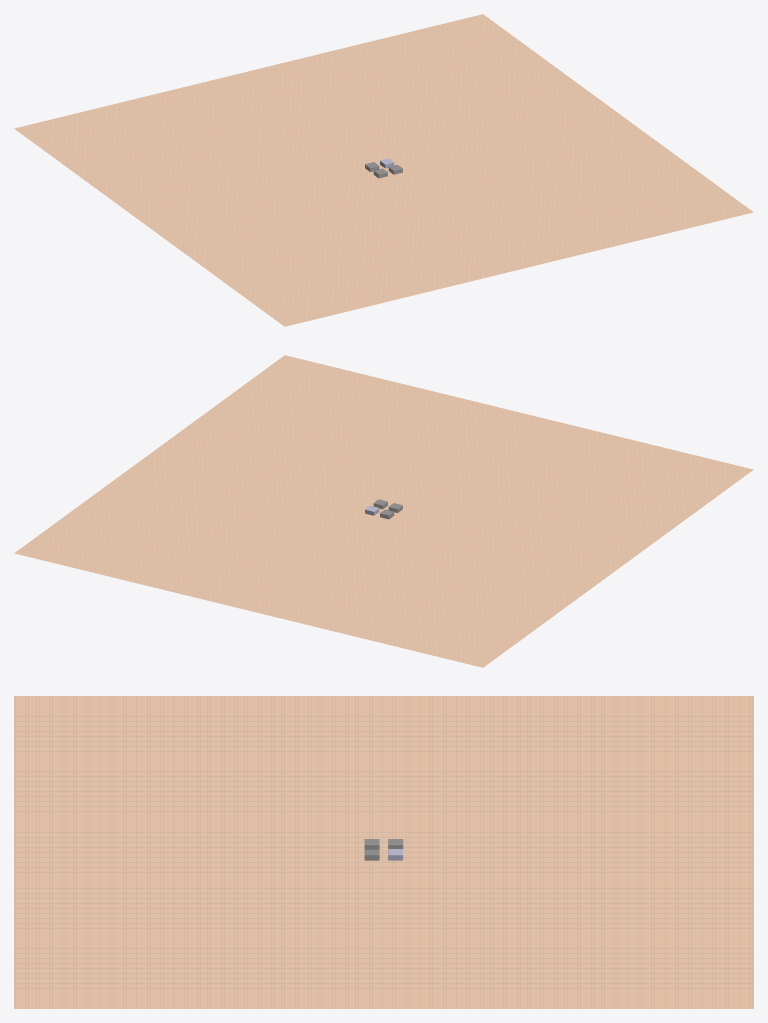
The picture shows the model from 3 angles, top to bottom: view 1: azimuth 30°, elevation 25°; view 2: azimuth 150°, elevation 25°; view 3: azimuth 270°, elevation 25°; orthographic projection. The views are drawn at different scales.
Parts seen in each view (by area): view 1: Floor; view 2: Floor; view 3: Floor, object 40, object 48, object 56, object 64, object 72, object 80, object 88, object 96, object 129, object 137, object 145 (+33 smaller).
Part boxes in pixels (x1,y1,x2,y2): Floor: (14, 14, 753, 326); Floor: (14, 355, 753, 667); Floor: (14, 696, 753, 1008); object 40: (14, 716, 753, 716); object 48: (14, 721, 753, 721); object 56: (14, 726, 753, 726); object 64: (14, 731, 753, 731); object 72: (14, 736, 753, 736); object 80: (14, 741, 753, 741); object 88: (14, 746, 753, 746); object 96: (14, 751, 753, 751); object 129: (14, 771, 753, 771); object 137: (14, 776, 753, 776); object 145: (14, 781, 753, 781).
Bounding box in the file's own units: 50 × 0.4216 × 50.
